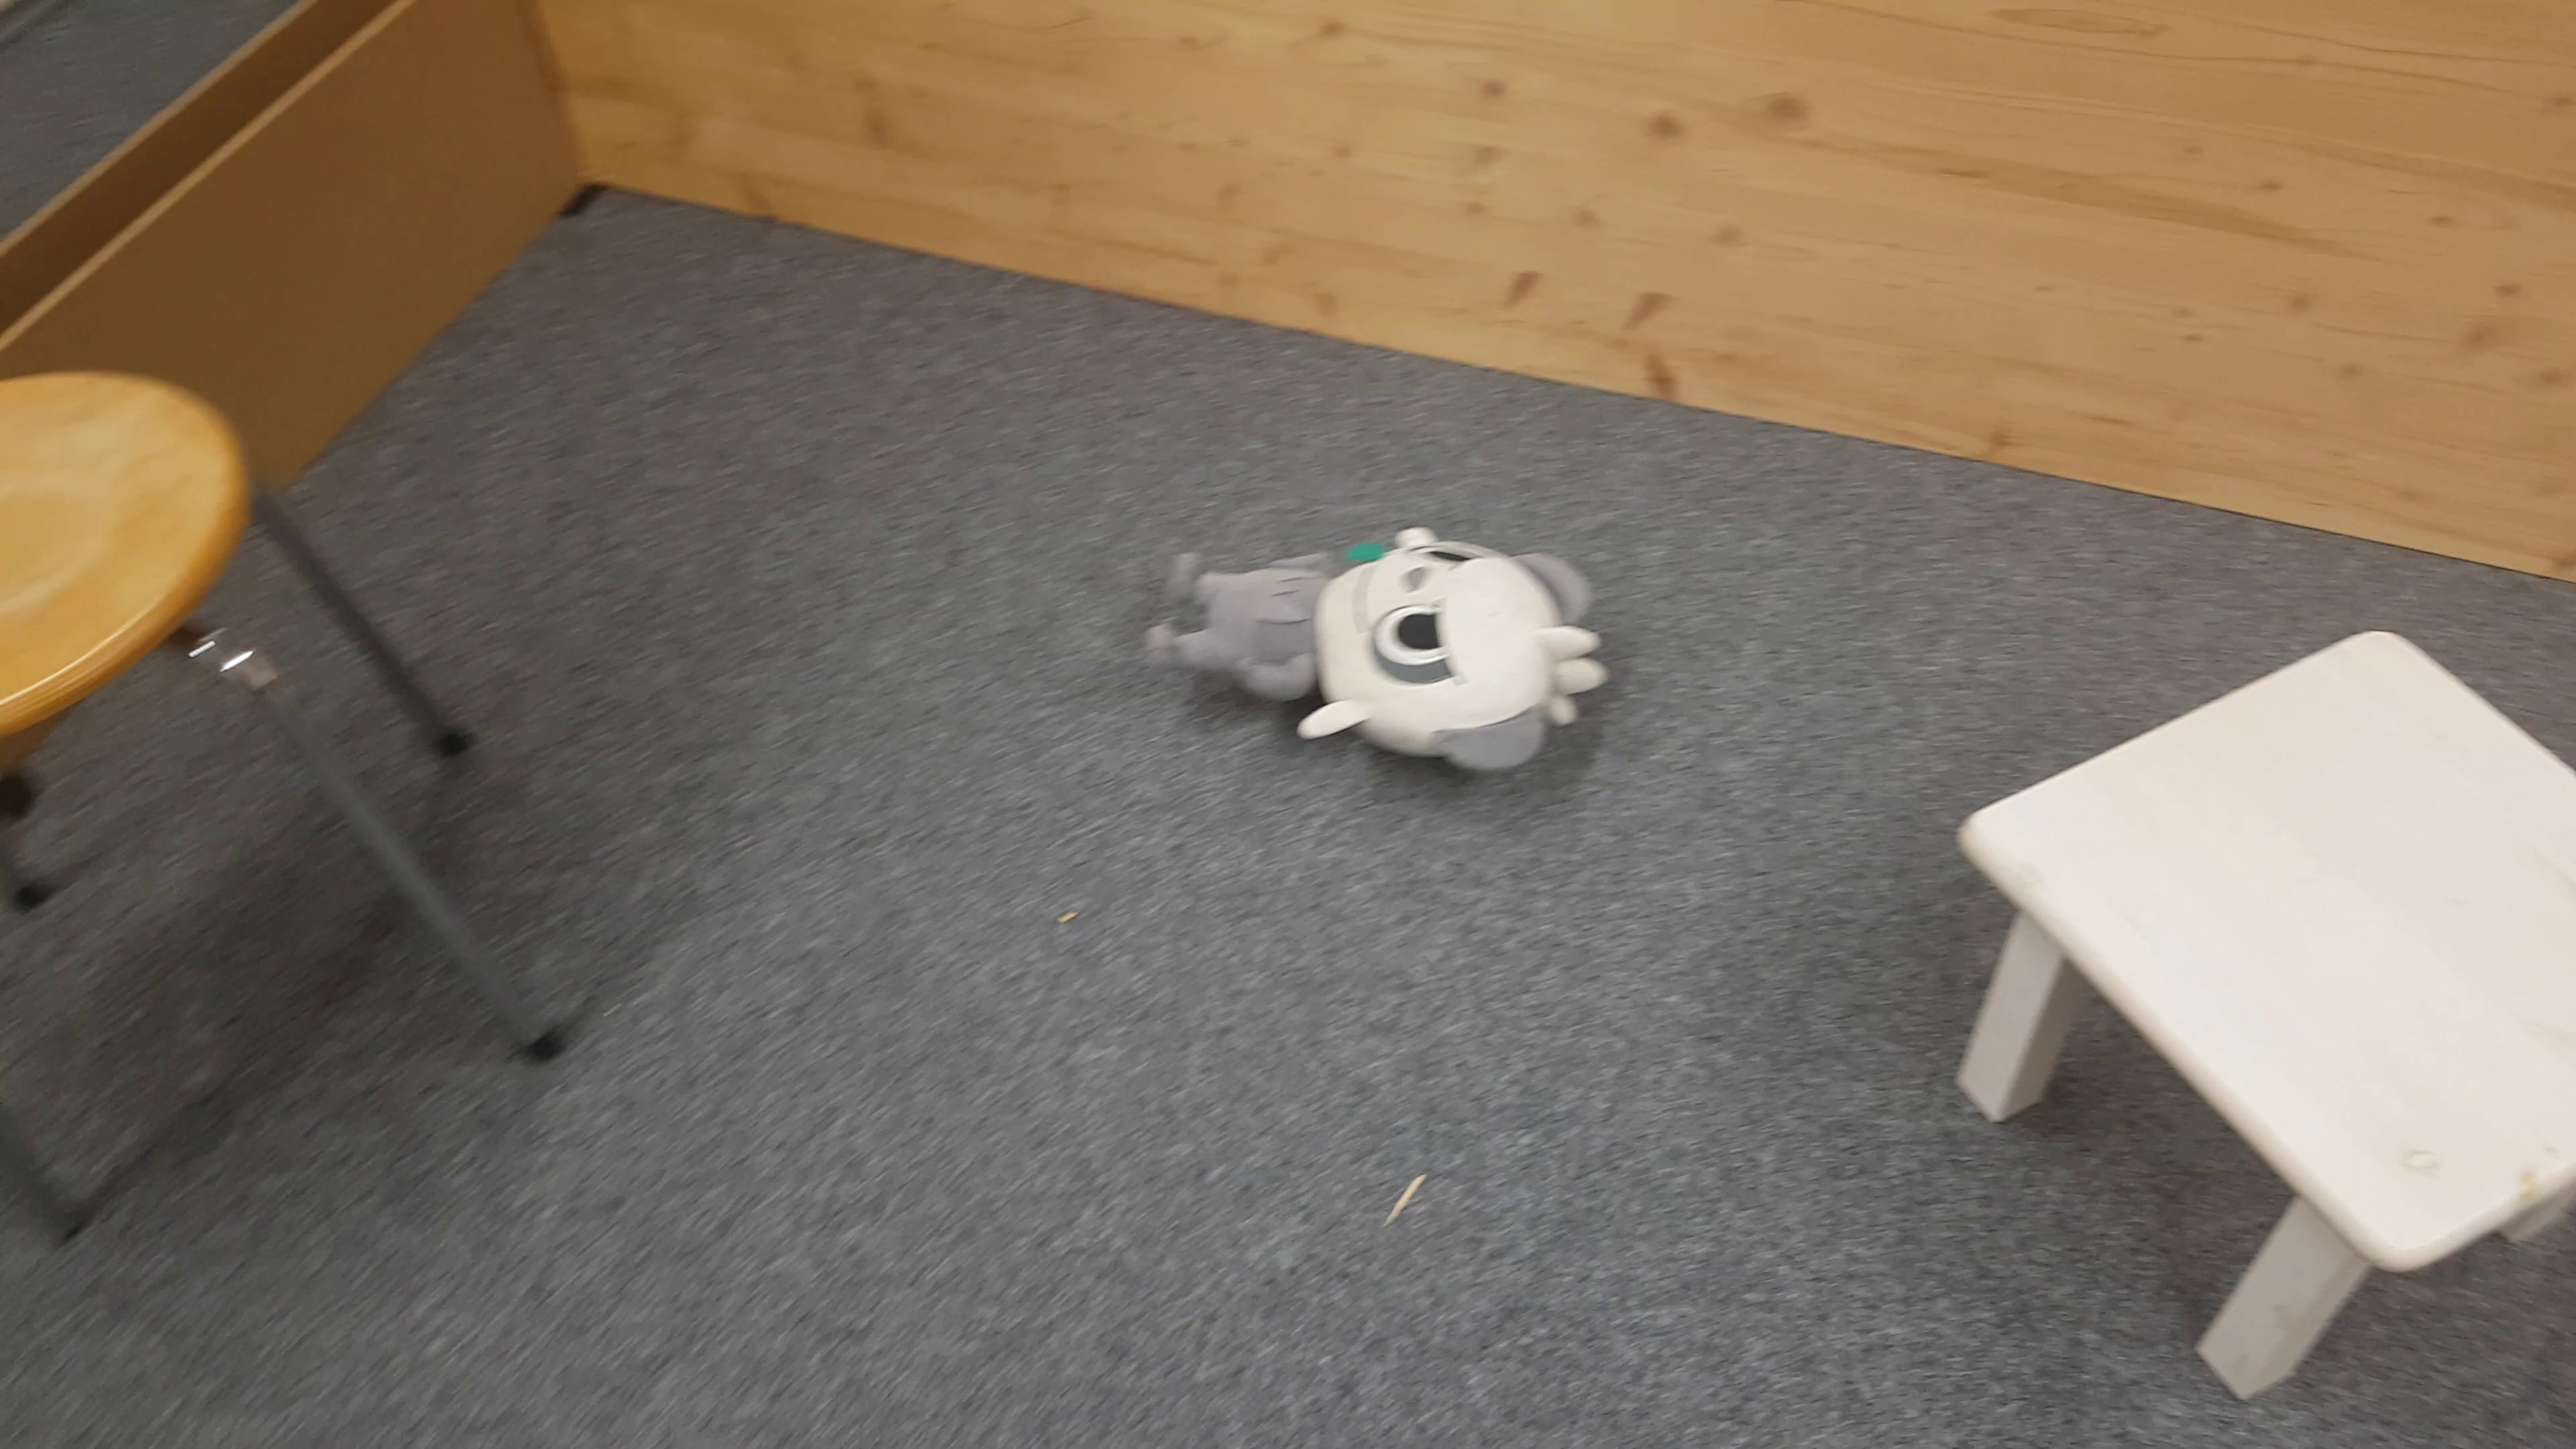grasp: (1152, 515, 1605, 782)
